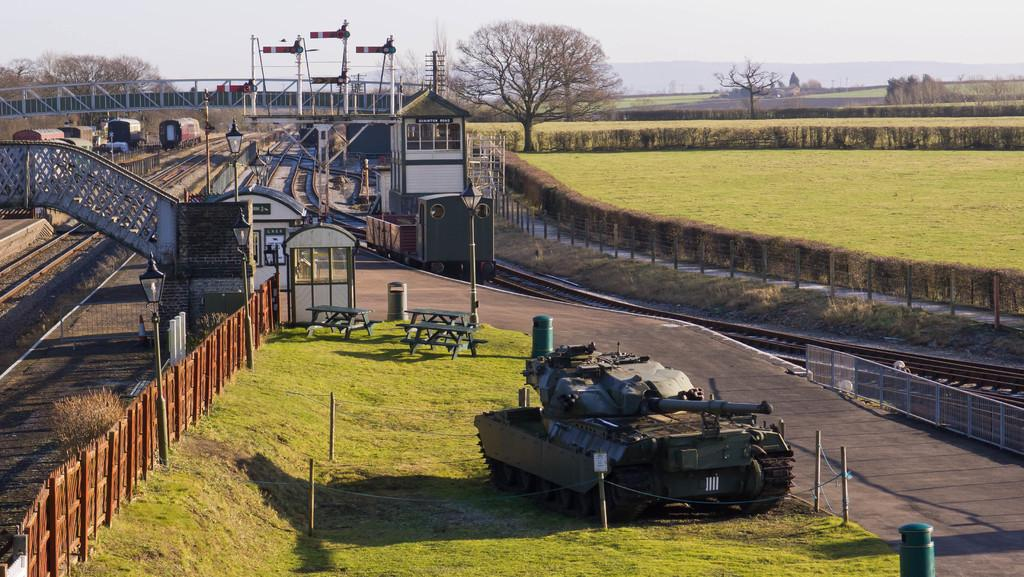Tank: (475, 341, 797, 523)
